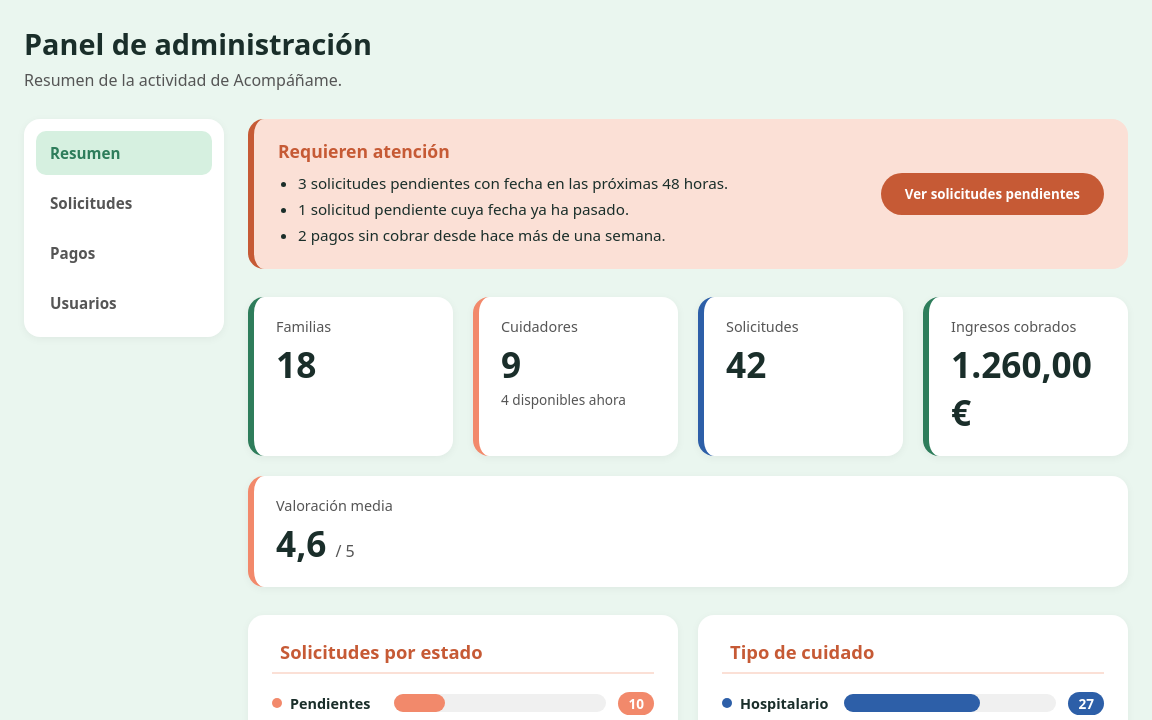
Test: AdminView › se puede volver a Resumen desde otra sección
Click the button with class "admin-menu__boton" showing "Usuarios" at (124, 303), box [36, 281, 212, 325]
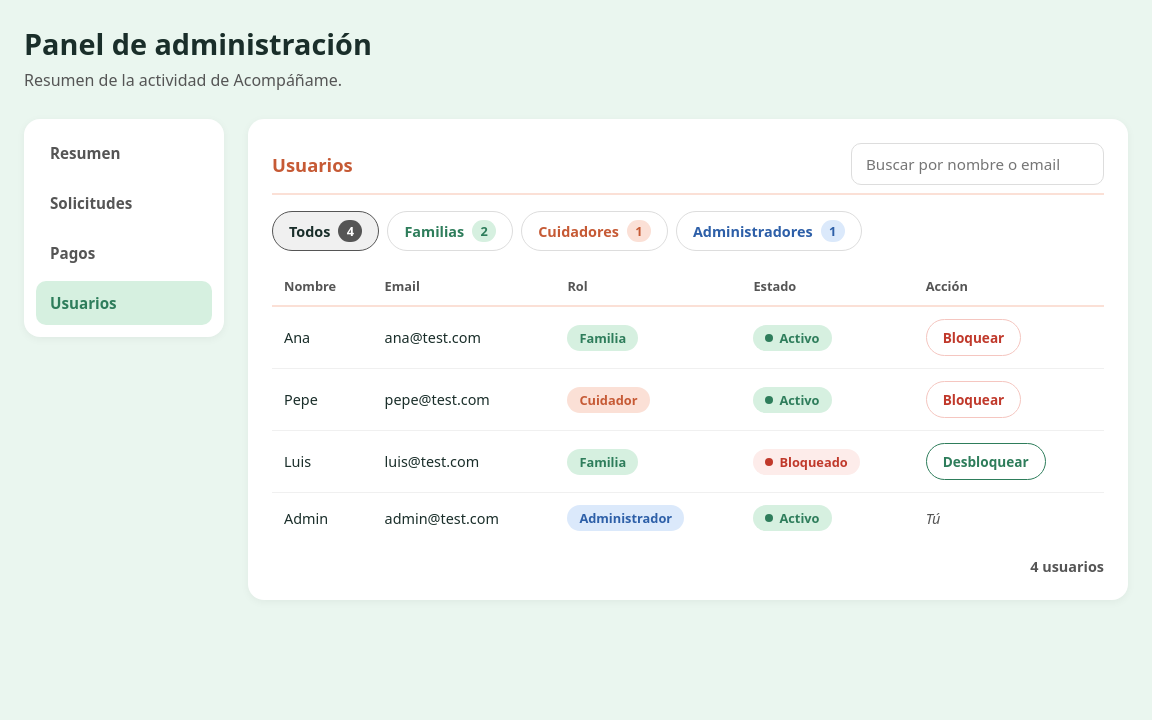
Click the button with class "admin-menu__boton" showing "Resumen" at (124, 153), box [36, 131, 212, 175]
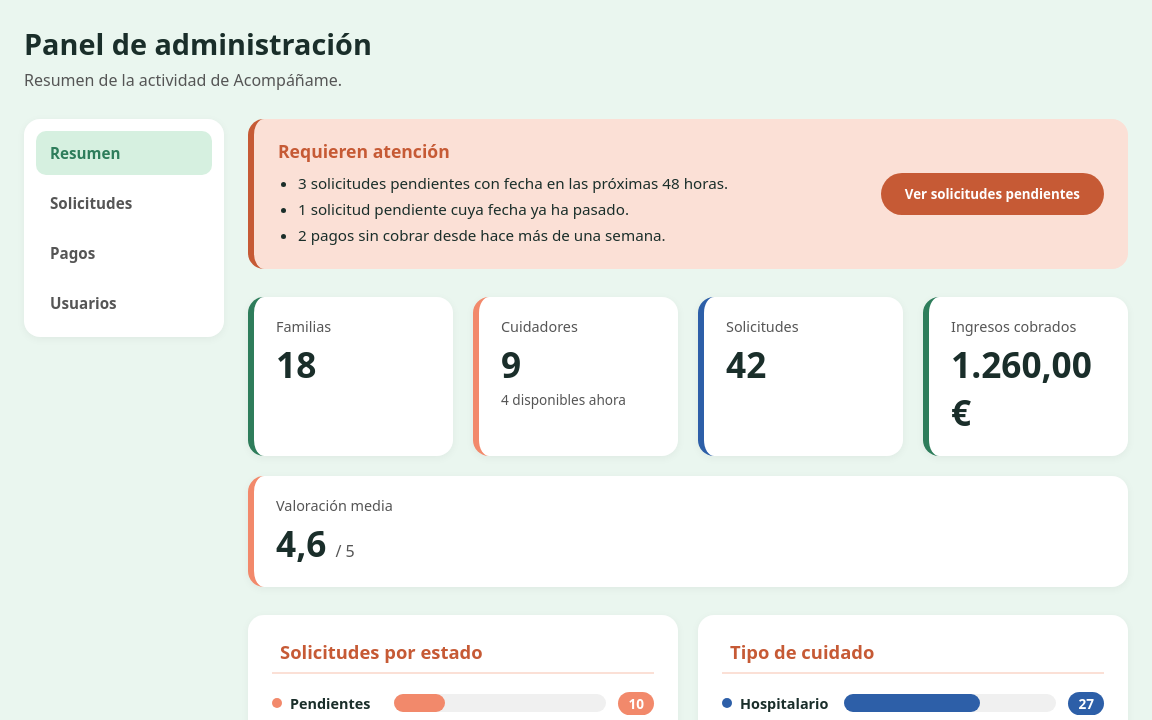
Expected: the text "Requieren atención" is shown, [278, 139, 450, 163]
